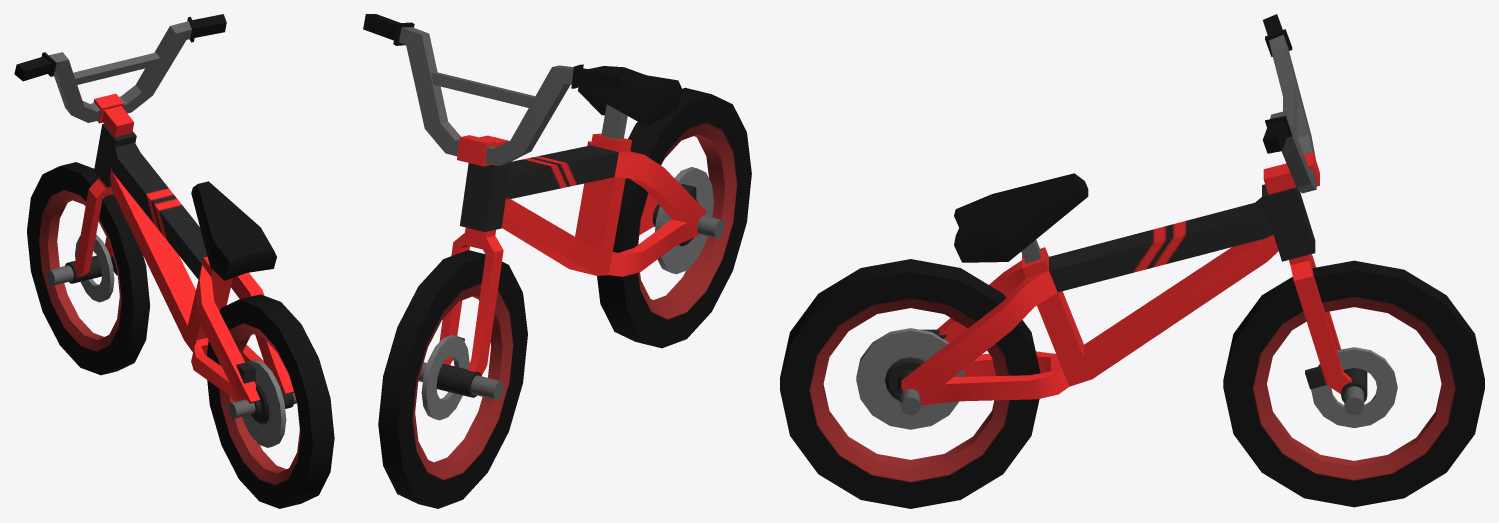
The model's file is BikeBody.obj.
3 views of the same model, side by side, from view 1: azimuth 30°, elevation 25°; view 2: azimuth 150°, elevation 25°; view 3: azimuth 270°, elevation 25° (orthographic). The views are drawn at different scales.
Visible parts, largest first — view 1: BMX_Body, BMX_Rear_Wheel, BMX_Front_Wheel, BMX_Handle; view 2: BMX_Body, BMX_Front_Wheel, BMX_Rear_Wheel, BMX_Handle; view 3: BMX_Body, BMX_Rear_Wheel, BMX_Front_Wheel, BMX_Handle.
Part boxes in pixels (left/top/right/bottom): BMX_Body: left=94, top=123, right=294, bottom=403; BMX_Rear_Wheel: left=207, top=294, right=334, bottom=508; BMX_Front_Wheel: left=27, top=162, right=150, bottom=375; BMX_Handle: left=14, top=14, right=226, bottom=276; BMX_Body: left=460, top=66, right=706, bottom=276; BMX_Front_Wheel: left=378, top=250, right=527, bottom=508; BMX_Rear_Wheel: left=597, top=87, right=751, bottom=348; BMX_Handle: left=363, top=14, right=620, bottom=375; BMX_Body: left=901, top=173, right=1315, bottom=405; BMX_Rear_Wheel: left=780, top=259, right=1040, bottom=508; BMX_Front_Wheel: left=1223, top=260, right=1484, bottom=507; BMX_Handle: left=1263, top=14, right=1351, bottom=393.
Size of the model in its own units: 1.36 by 2.2 by 3.27.
